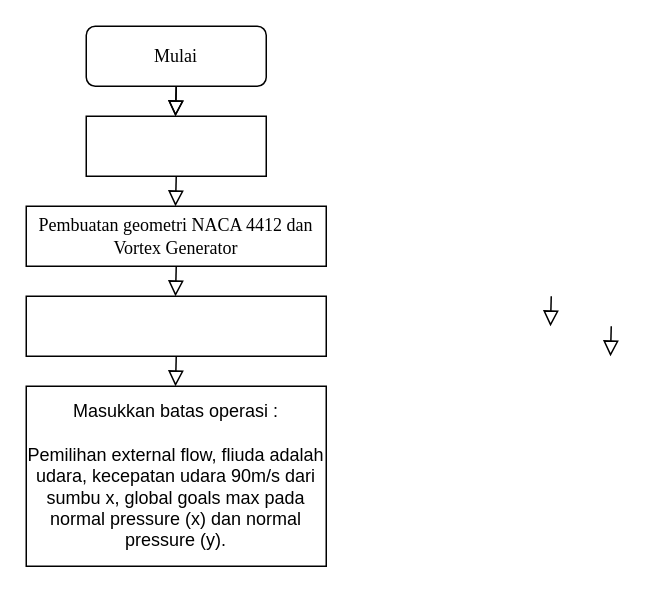
Image size: 653x593. Some labels were removed from this diagram. Each missing label, with the centre of its shape:
"Assembly Airfoil dengan Vortex Generator" goes at point (175, 325).
"Perumusan Masalah" goes at point (175, 145).
